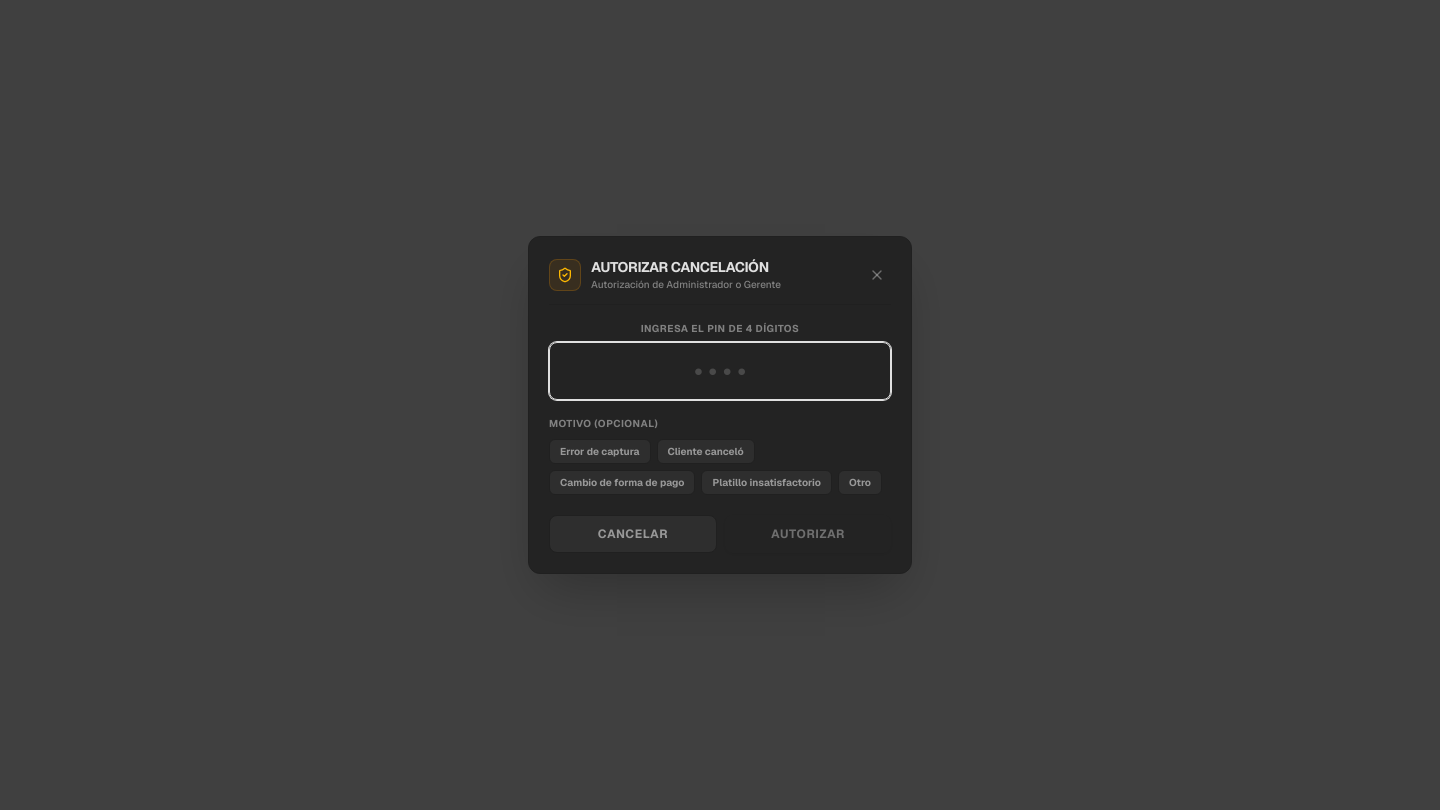
Test case: POSManagerAuthModal › handles network error during pin verification
This screenshot has width=1440, height=810.
Type "1234" into the password field with placeholder "••••" at (720, 371), box [549,342,891,400]
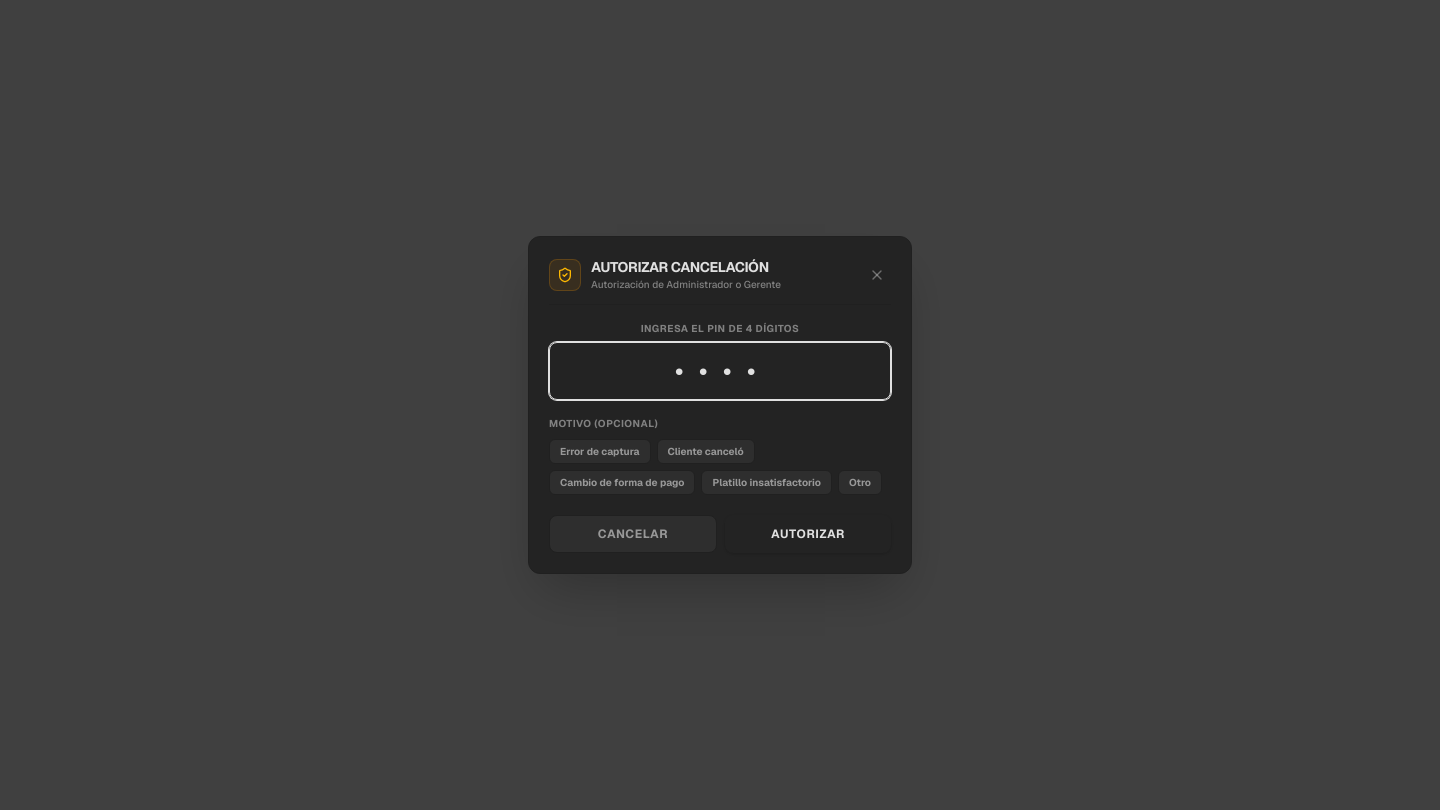
Click the button "Autorizar" at (808, 534), box [725,515,891,553]
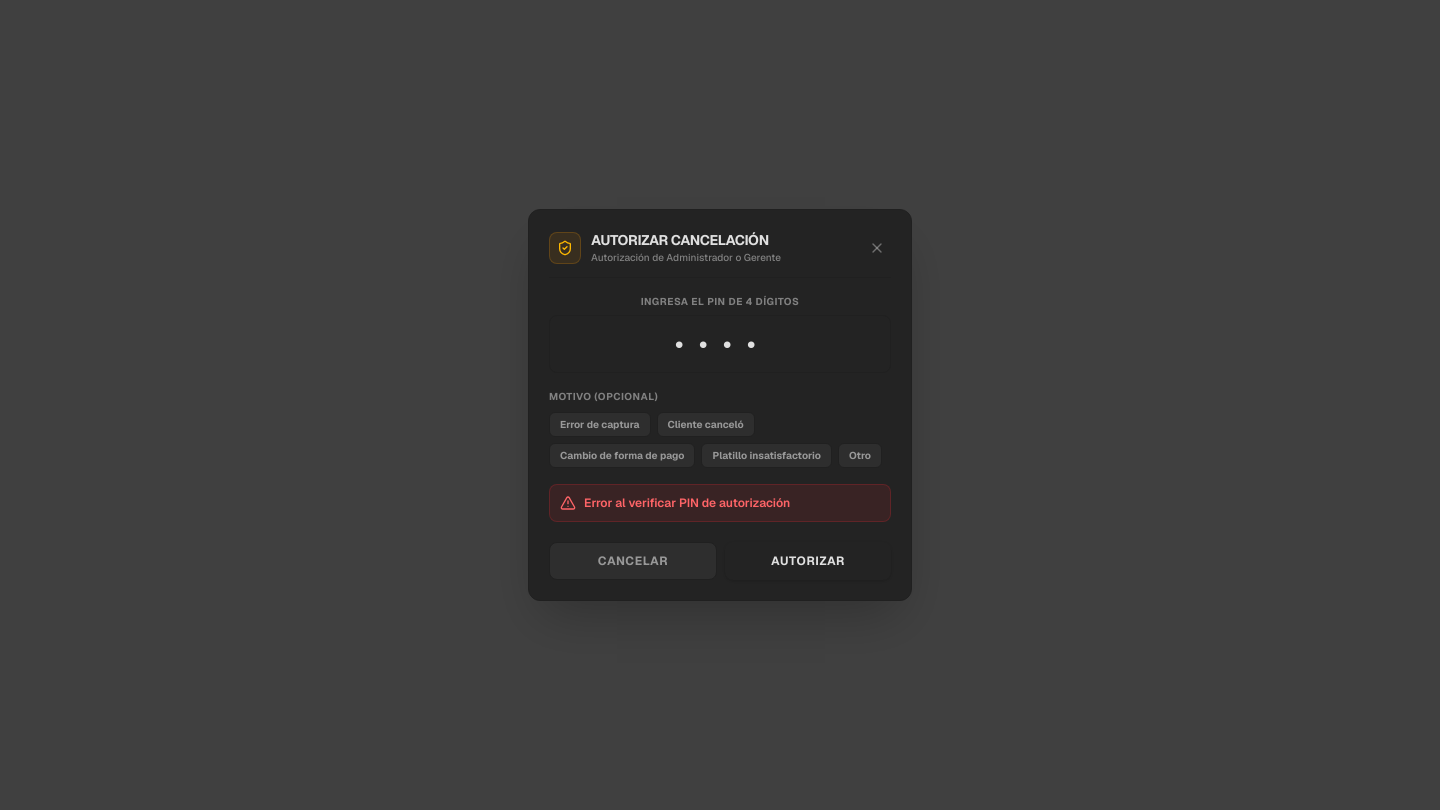
Now the text "Error al verificar PIN de autorización" is shown, box [584,495,790,511]
